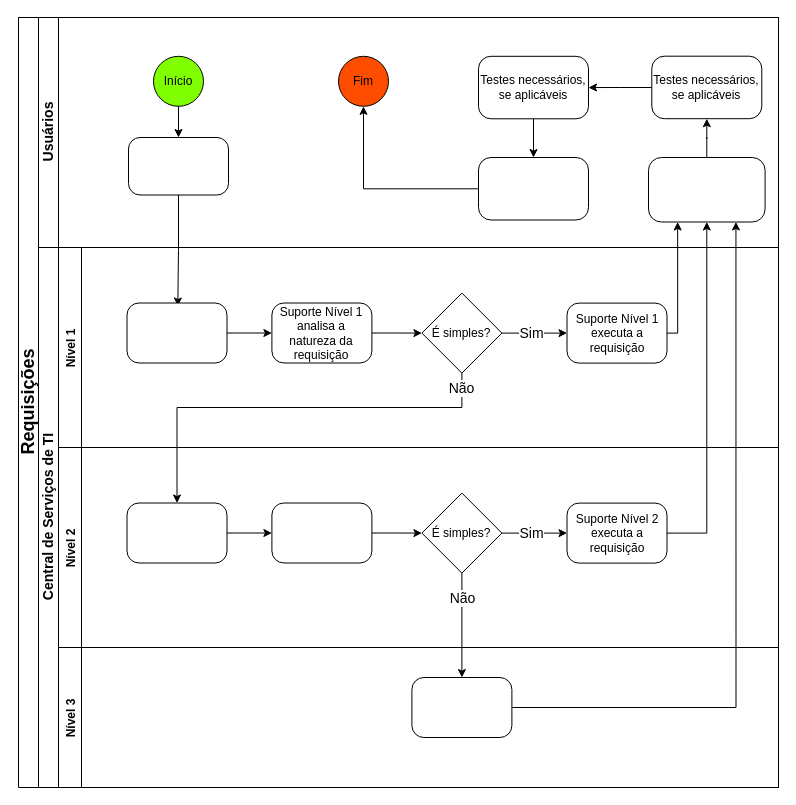
Image size: 796x805. Some labels were removed from this diagram. The centre of each missing label's shape, as x and y in pixels:
"Recebimento da requisição do usuário" goes at (x=178, y=165).
"Suporte Nível 1 registra e categoriza a requisição" goes at (x=176, y=332).
"Suporte Nível 2 analisa a natureza da requisição" goes at (x=321, y=532).
"Suporte Nível 2 registra e categoriza a requisição" goes at (x=176, y=532).
"Suporte Nível 3 analisa e executa a requisição." goes at (x=461, y=707).
"Usuário é informado sobre a resolução do incidente." goes at (x=533, y=188).
"Validação de que a requisição foi atendida conforme solicitado" goes at (x=706, y=189).
